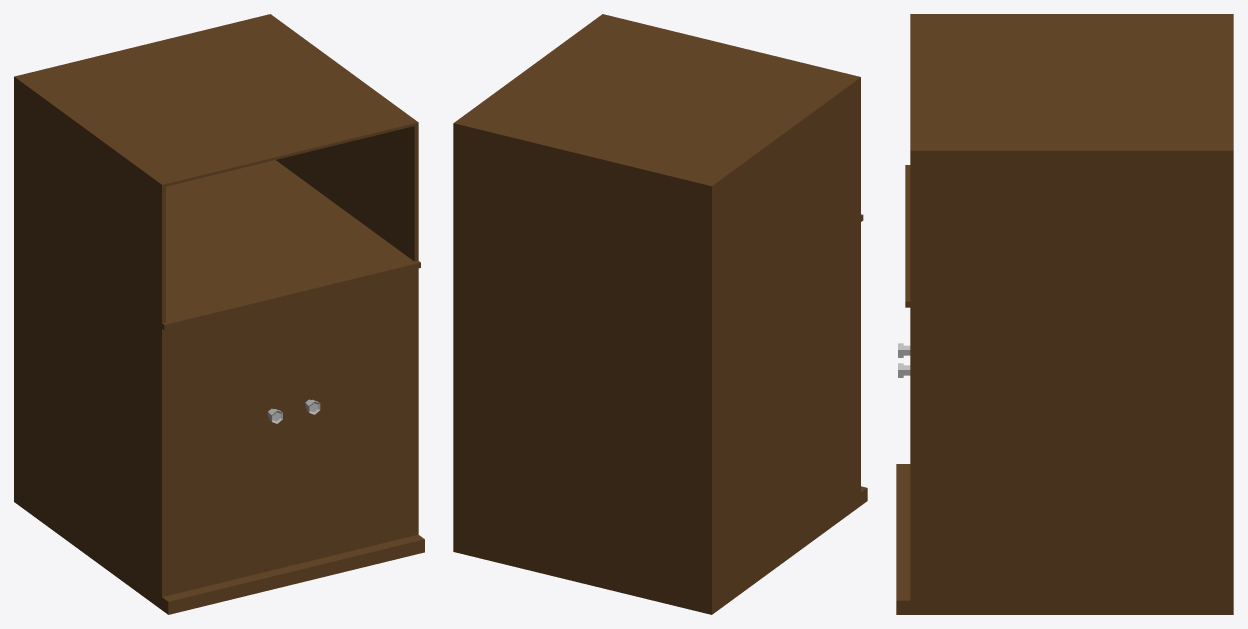
The model's file is locker1.fbx.
3 renders of one model, left to right at view 1: azimuth 30°, elevation 25°; view 2: azimuth 150°, elevation 25°; view 3: azimuth 270°, elevation 25°, orthographic. The views are drawn at different scales.
Parts seen in each view (by area): view 1: Cube.012; view 2: Cube.012; view 3: Cube.012.
Part boxes in pixels (left/top/right/bottom): Cube.012: left=14, top=14, right=424, bottom=614; Cube.012: left=453, top=14, right=867, bottom=614; Cube.012: left=896, top=14, right=1233, bottom=614.
Bounding box in the file's own units: 63.4 × 101 × 66.11.
